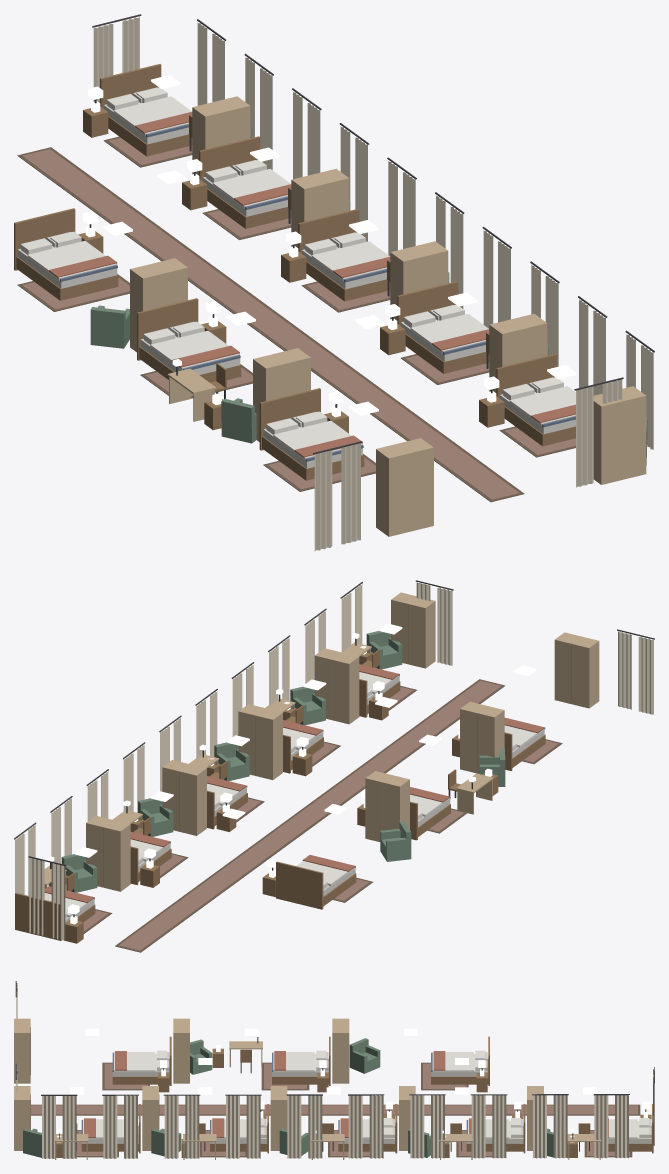
Rendered from fine-s1.glb.
3 views of the same model, one above another, from view 1: azimuth 30°, elevation 25°; view 2: azimuth 150°, elevation 25°; view 3: azimuth 270°, elevation 25° (orthographic). The views are drawn at different scales.
Visible parts, largest first — view 1: soft-s1, dresser.002, dresser.007, bed-frame.000, bed-frame.006, bed-frame.005, bed-frame.004, bed-frame.003, bed-frame.001, bed-frame.007, bed-frame.002, dresser.000 (+13 smaller); view 2: soft-s1, dresser.002, dresser.006, dresser.003, dresser.004, dresser.005, dresser.007, dresser.000, dresser.001, bed-frame.000, bed-frame.003, lounge-chair.000 (+13 smaller); view 3: soft-s1, dresser.000, dresser.001, dresser.002, dresser.005, dresser.006, dresser.007, lounge-chair.000, bed-frame.002, bed-frame.000, bed-frame.001, dresser.004 (+15 smaller).
Part boxes in pixels (x1,y1,x2,y2): soft-s1: (17, 14, 654, 551); dresser.002: (376, 438, 433, 536); dresser.007: (593, 386, 646, 484); bed-frame.000: (14, 208, 118, 300); bed-frame.006: (397, 281, 489, 373); bed-frame.005: (298, 209, 390, 301); bed-frame.004: (199, 136, 291, 228); bed-frame.003: (100, 64, 192, 156); bed-frame.001: (137, 298, 241, 382); bed-frame.007: (496, 354, 575, 446); bed-frame.002: (259, 388, 364, 480); dresser.000: (130, 258, 187, 352); soft-s1: (14, 580, 654, 952); dresser.002: (554, 632, 599, 708); dresser.006: (314, 648, 359, 724); dresser.003: (86, 816, 130, 891); dresser.004: (162, 760, 206, 835); dresser.005: (238, 704, 282, 779); dresser.007: (391, 592, 435, 668); dresser.000: (365, 771, 409, 841); dresser.001: (460, 701, 504, 773); bed-frame.000: (276, 861, 356, 909); bed-frame.003: (15, 893, 95, 940); lounge-chair.000: (380, 821, 411, 861); soft-s1: (15, 981, 654, 1158); dresser.000: (332, 1018, 349, 1083); dresser.001: (173, 1018, 189, 1083); dresser.002: (14, 1018, 30, 1083); dresser.005: (270, 1086, 287, 1150); dresser.006: (142, 1086, 159, 1150); dresser.007: (14, 1086, 30, 1150); lounge-chair.000: (349, 1038, 380, 1073); bed-frame.002: (112, 1036, 171, 1085); bed-frame.000: (431, 1036, 489, 1085); bed-frame.001: (272, 1036, 330, 1085); dresser.004: (399, 1086, 415, 1150).
Size of the model in its own units: 9.62 by 2.57 by 22.86.
